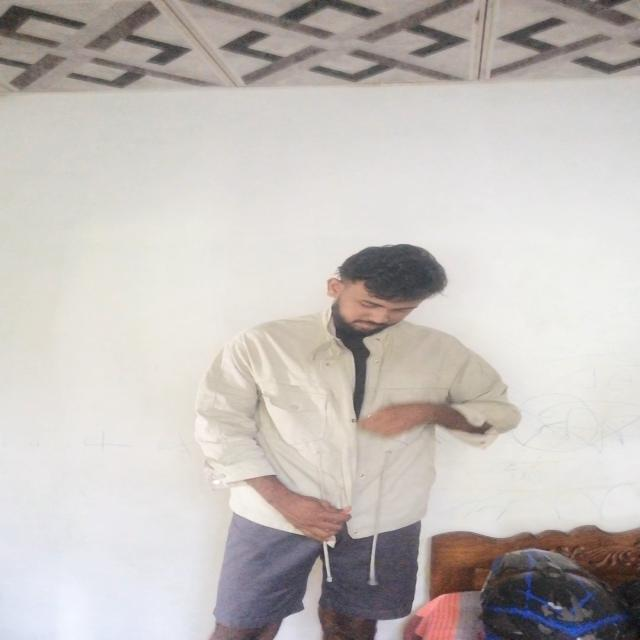Jacket_Wearer: (178, 296, 521, 552)
Person: (161, 227, 534, 640)
